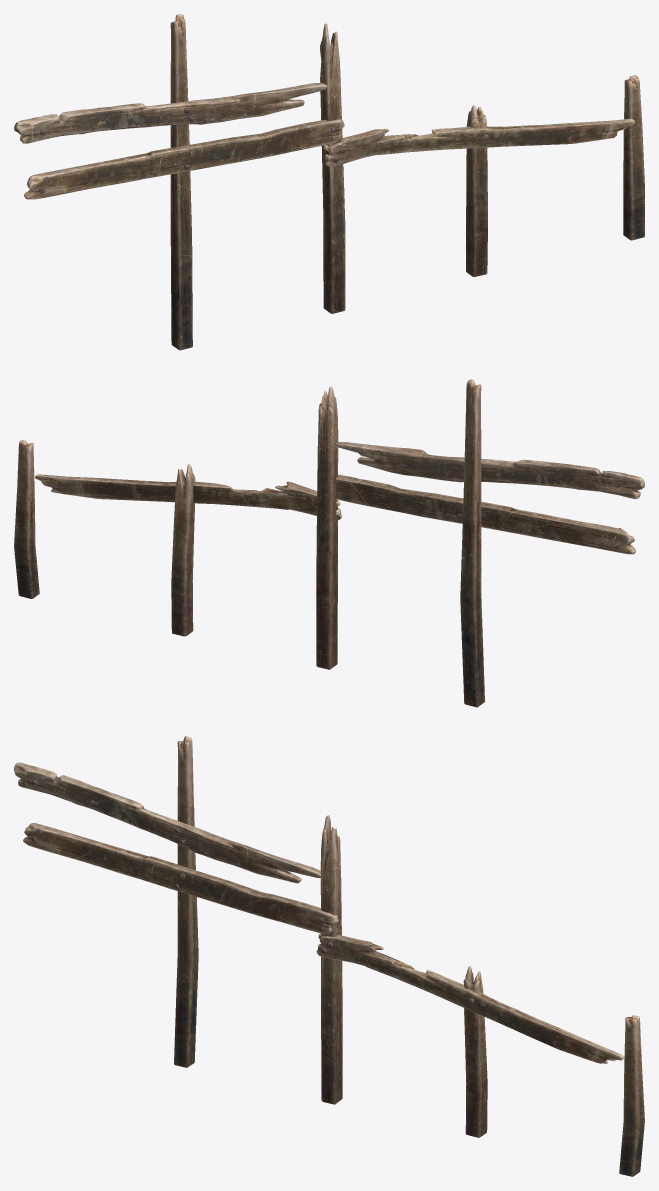
3 views of the same model, one above another, from view 1: azimuth 30°, elevation 25°; view 2: azimuth 150°, elevation 25°; view 3: azimuth 330°, elevation 25° (orthographic).
Visible parts, largest first — view 1: SM_Wooden_Fence_01v1_LOD0; view 2: SM_Wooden_Fence_01v1_LOD0; view 3: SM_Wooden_Fence_01v1_LOD0.
Part boxes in pixels (x1,y1,x2,y2): SM_Wooden_Fence_01v1_LOD0: (14,14,644,350); SM_Wooden_Fence_01v1_LOD0: (14,379,644,707); SM_Wooden_Fence_01v1_LOD0: (14,736,644,1176).
Bounding box in the file's own units: 3.91 × 1.95 × 0.1435.
Materials: 1 (1 with a texture image).
